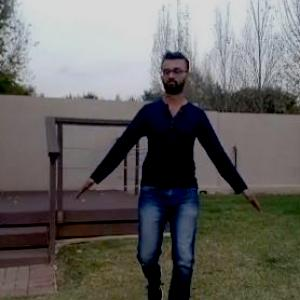land: (57, 23, 282, 299)
